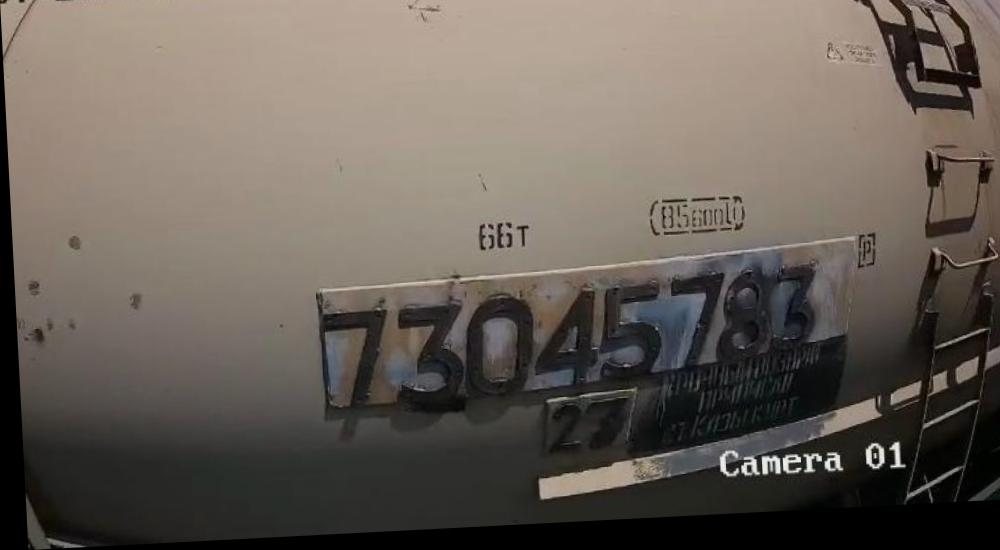Wagon-number: (319, 269, 820, 413)
